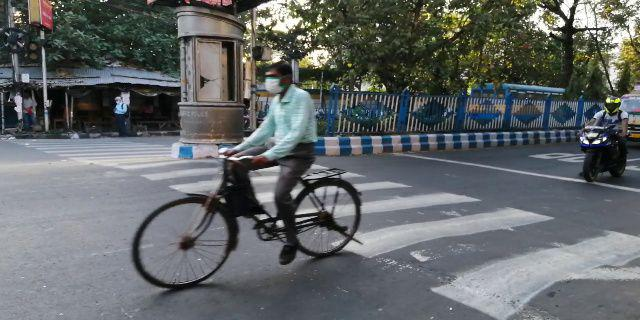Cycle: (122, 58, 365, 289)
Motorbike: (569, 87, 634, 190)
